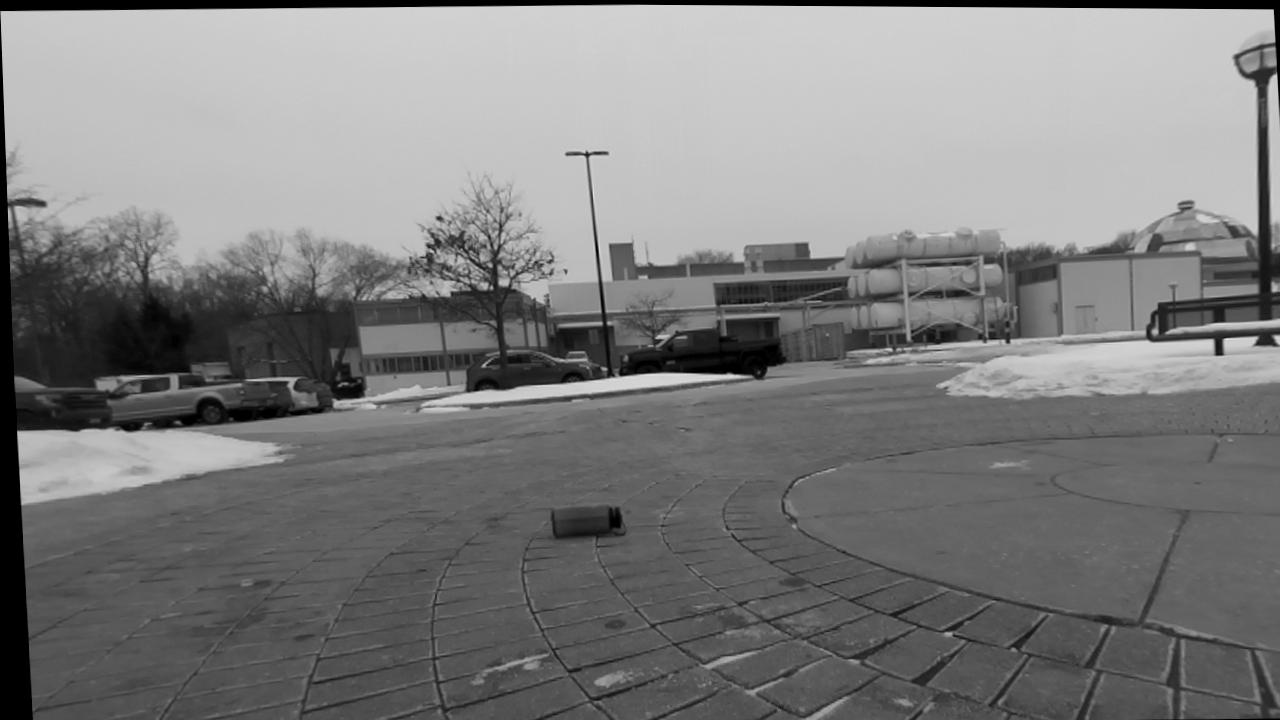bottle: (551, 505, 624, 537)
